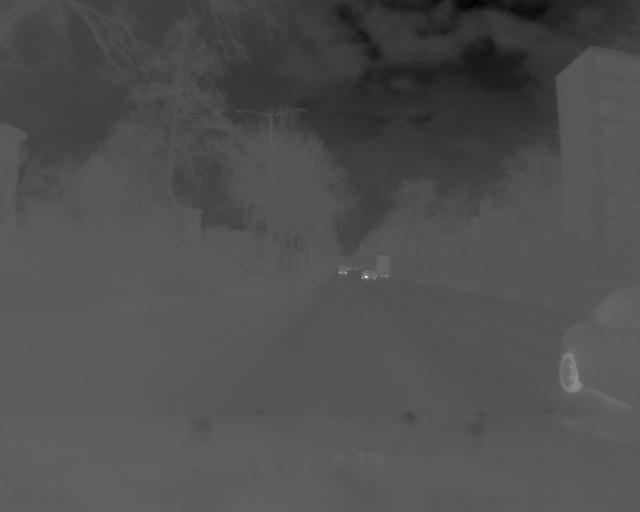car: (557, 283, 640, 408)
